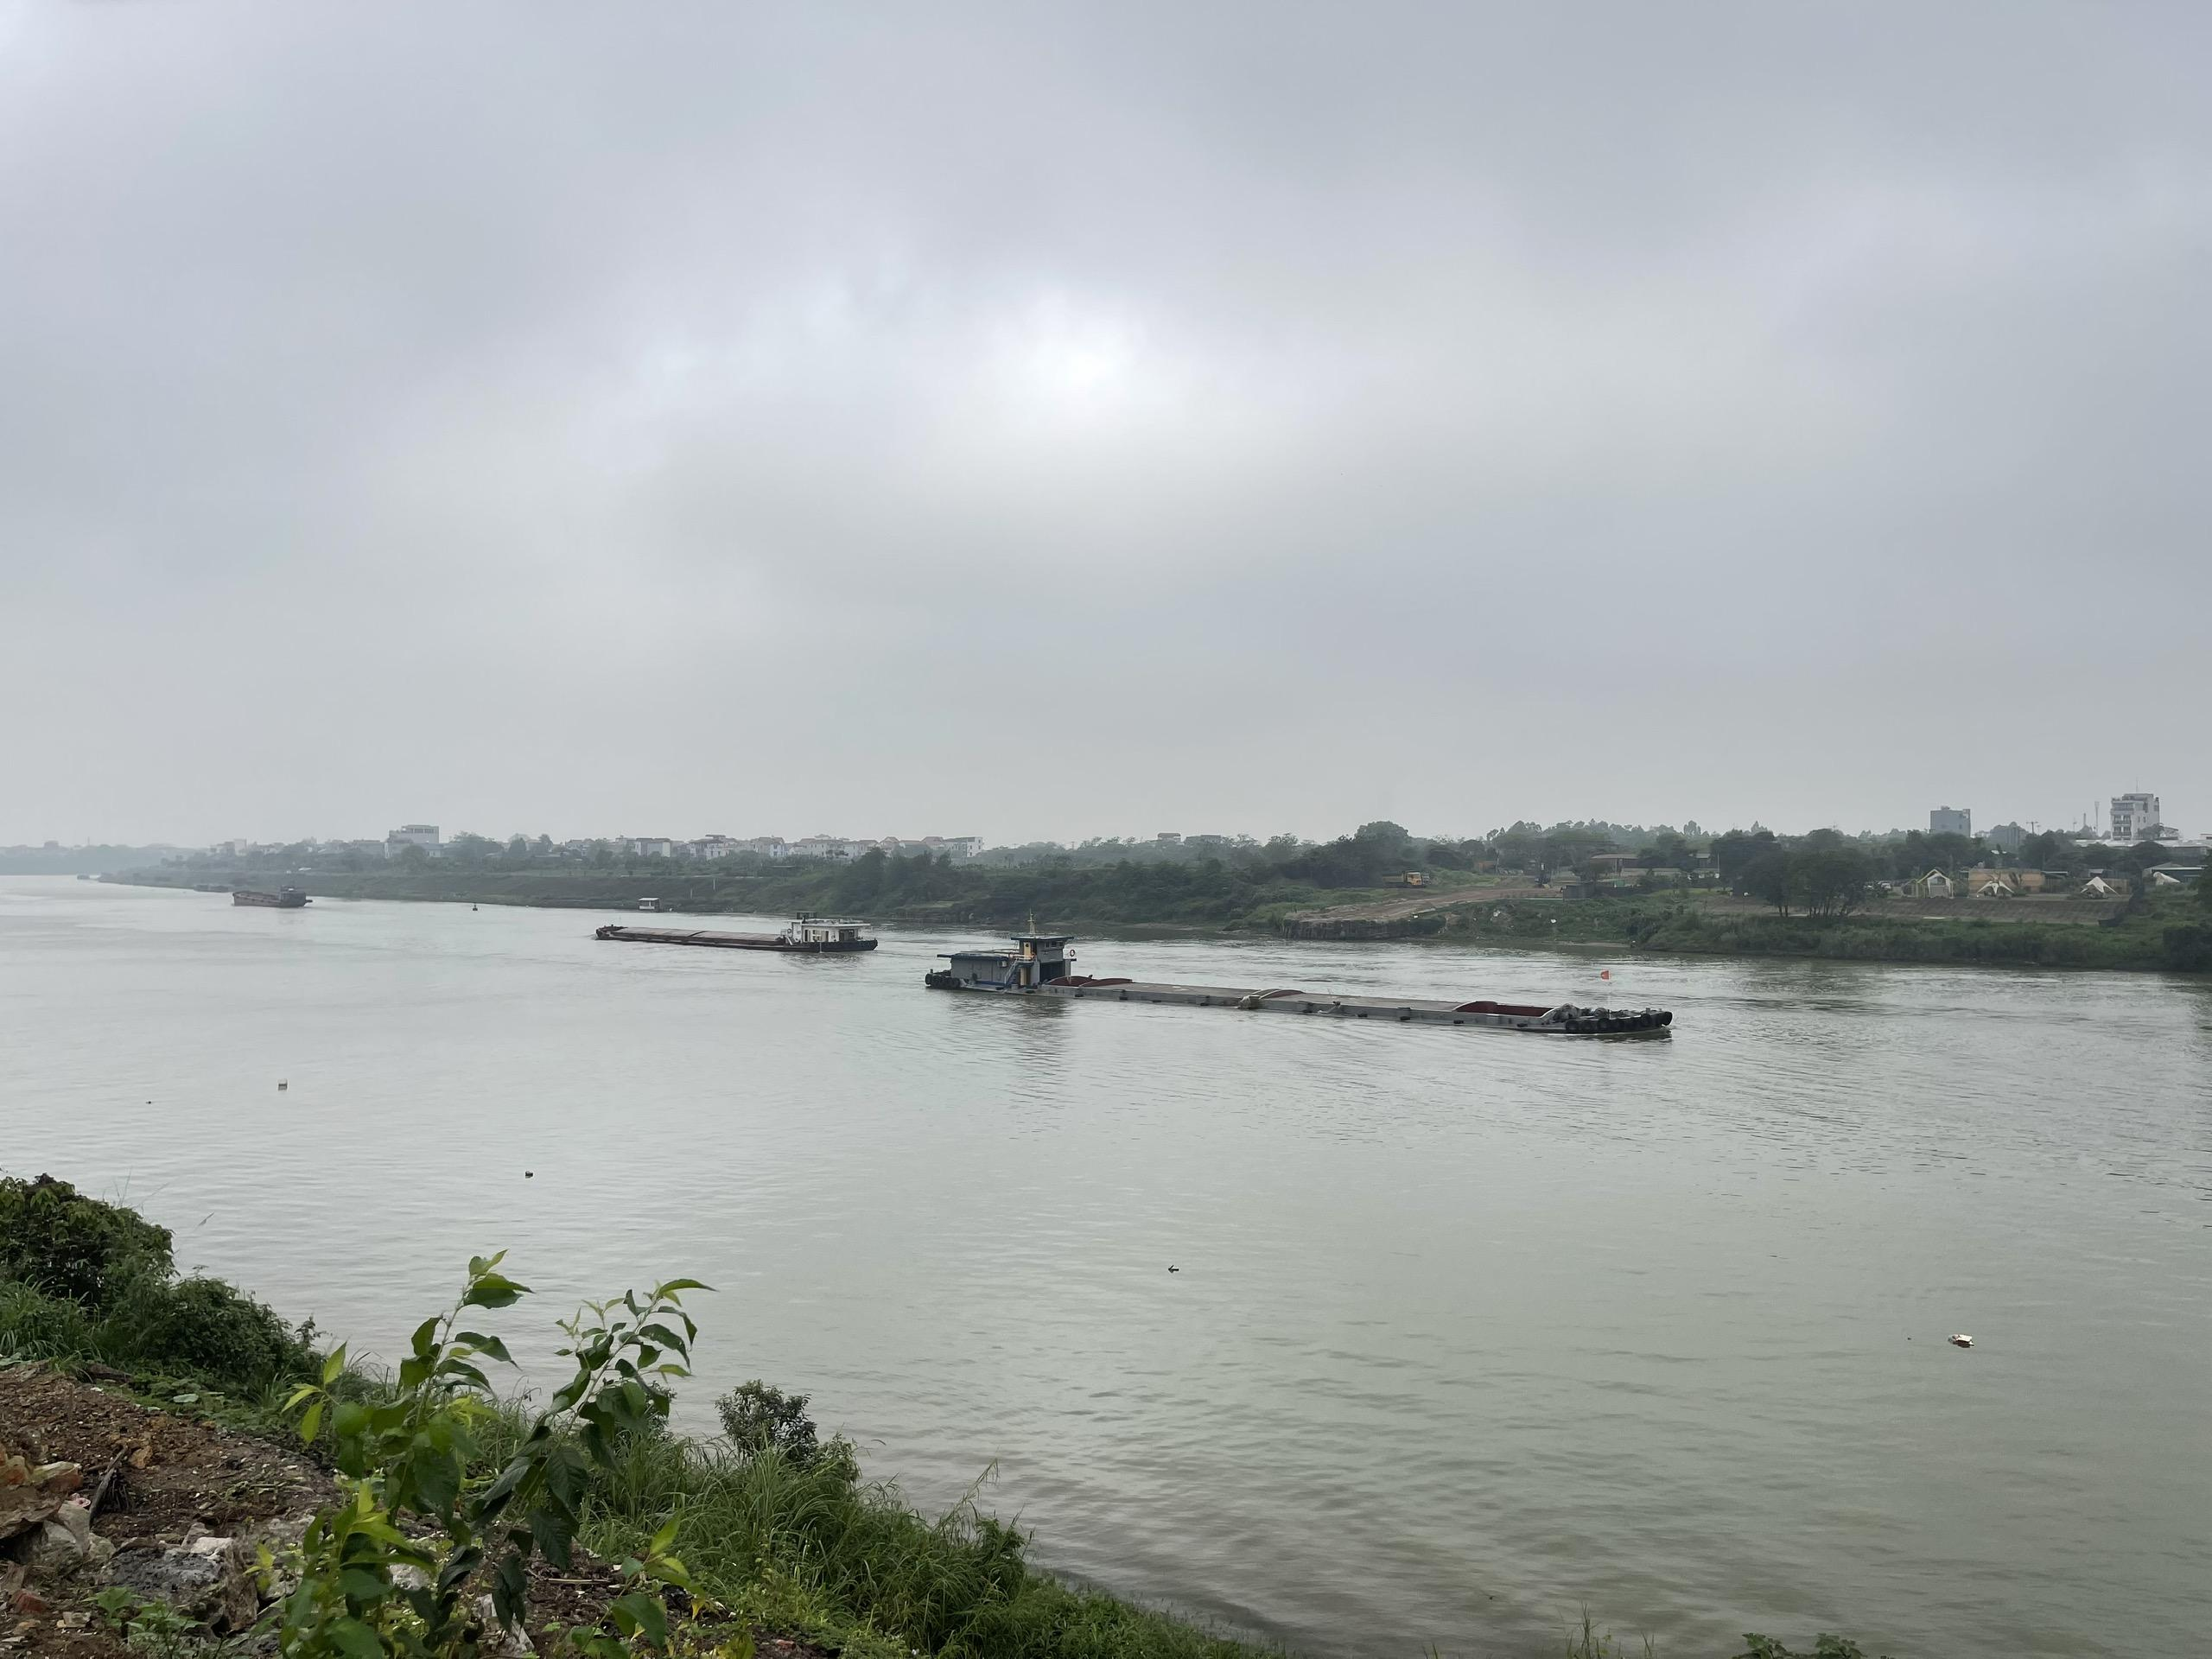Ship: (920, 932, 1686, 1058), (589, 903, 885, 958)
